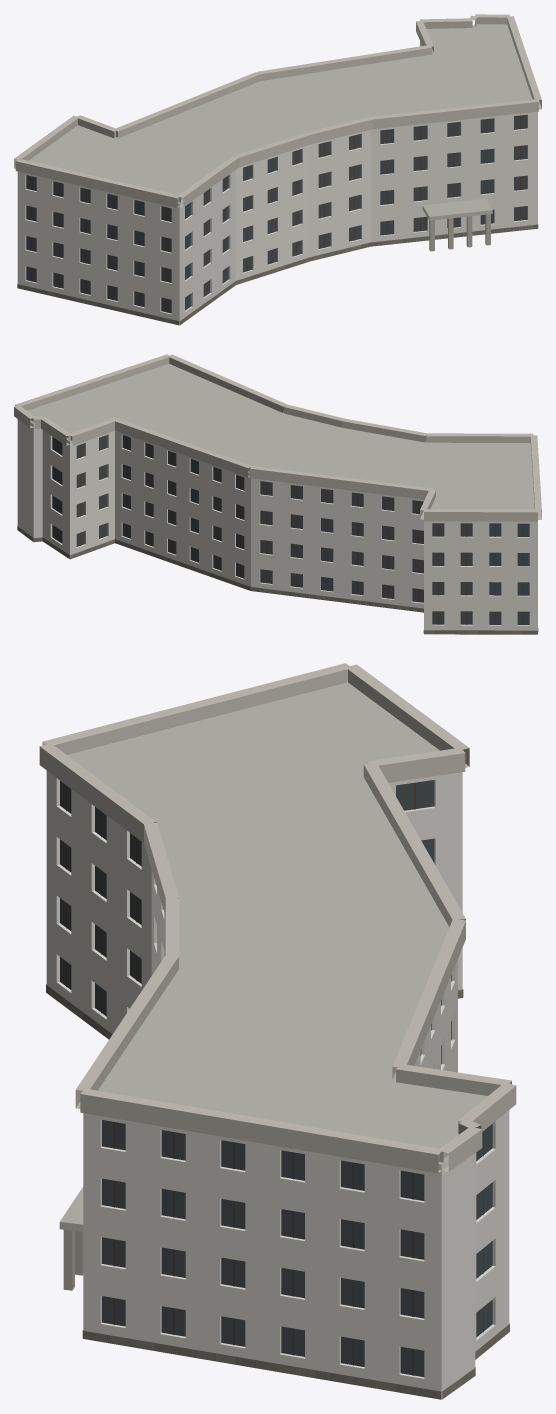
3 views of the same model, one above another, from view 1: azimuth 30°, elevation 25°; view 2: azimuth 150°, elevation 25°; view 3: azimuth 270°, elevation 25° (orthographic). The views are drawn at different scales.
Visible parts, largest first — view 1: facultyHall__wall, facultyHall__roof, facultyHall__trim, facultyHall__glass, facultyHall__base, facultyHall__frame, facultyHall__column; view 2: facultyHall__wall, facultyHall__roof, facultyHall__trim, facultyHall__glass, facultyHall__base, facultyHall__frame; view 3: facultyHall__roof, facultyHall__wall, facultyHall__trim, facultyHall__glass, facultyHall__base, facultyHall__frame, facultyHall__column.
Boxes of the visible parts, x1,y1,x2,y2 form: facultyHall__wall: (17, 41, 537, 325); facultyHall__roof: (29, 24, 532, 216); facultyHall__trim: (14, 14, 541, 220); facultyHall__glass: (26, 114, 527, 313); facultyHall__base: (17, 224, 538, 325); facultyHall__frame: (31, 115, 520, 312); facultyHall__column: (429, 214, 490, 251); facultyHall__wall: (17, 419, 537, 630); facultyHall__roof: (27, 364, 534, 634); facultyHall__trim: (14, 354, 541, 521); facultyHall__glass: (52, 435, 529, 624); facultyHall__base: (17, 526, 538, 634); facultyHall__frame: (57, 436, 523, 624); facultyHall__roof: (60, 682, 487, 1399); facultyHall__wall: (46, 770, 509, 1399); facultyHall__trim: (39, 663, 516, 1231); facultyHall__glass: (60, 780, 492, 1376); facultyHall__base: (46, 984, 509, 1399); facultyHall__frame: (66, 782, 483, 1375); facultyHall__column: (63, 1229, 83, 1290).
Size of the model in its own units: 64.65 by 15.22 by 26.5.
8 materials, 1 textured.
